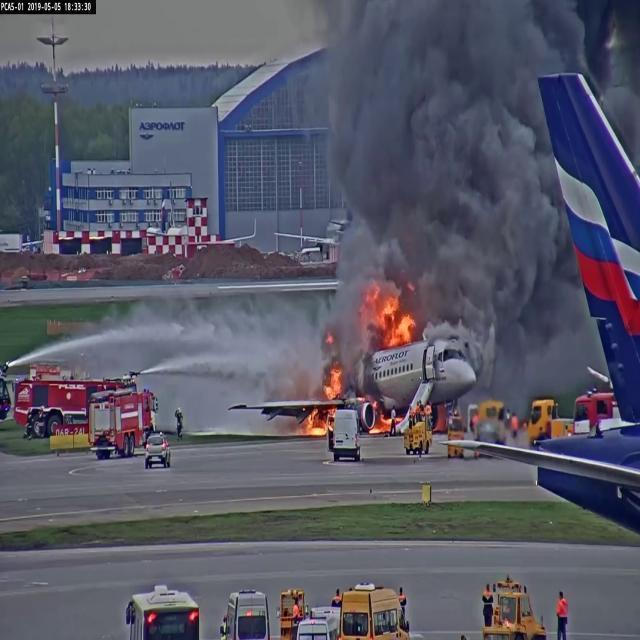Fire: (371, 286, 414, 361), (324, 352, 339, 395)
Smoke: (407, 0, 540, 317), (345, 8, 542, 212)
